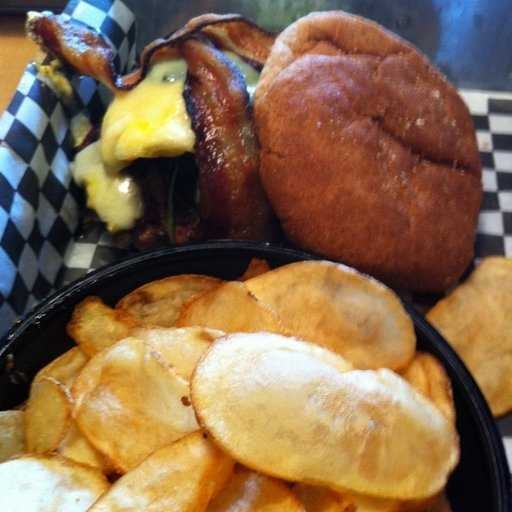hamburger: (44, 2, 453, 250)
